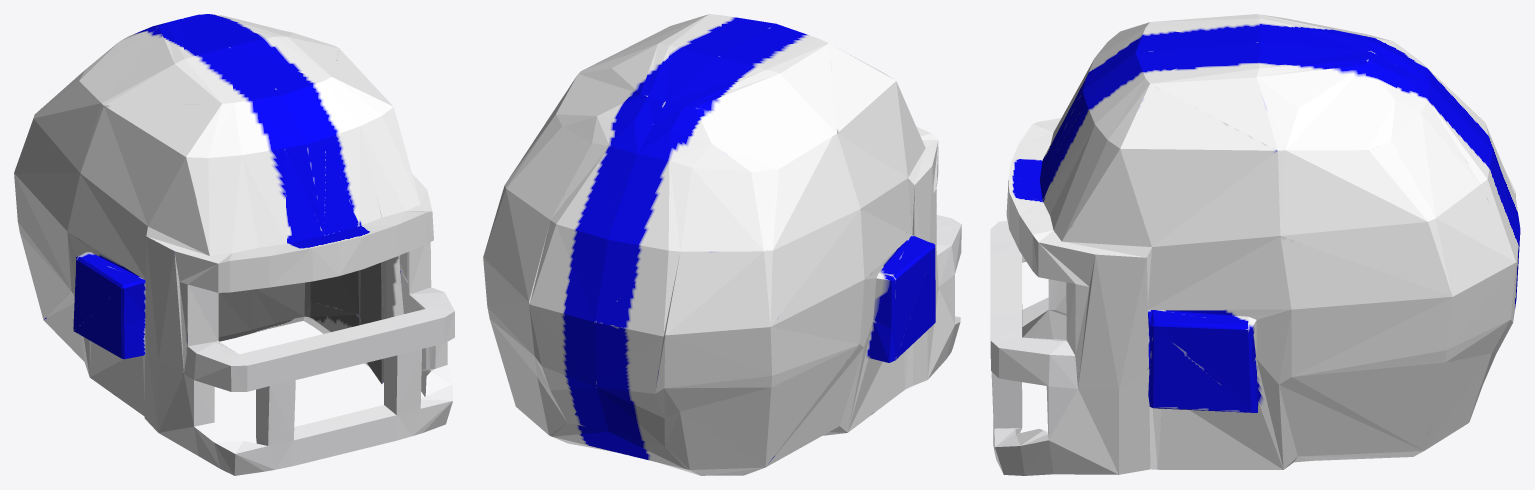
The model's file is helmet_regions.glb.
3 renders of one model, left to right at view 1: azimuth 30°, elevation 25°; view 2: azimuth 150°, elevation 25°; view 3: azimuth 270°, elevation 25°, orthographic. The views are drawn at different scales.
Visible parts, largest first — view 1: helmet; view 2: helmet; view 3: helmet.
Part boxes in pixels (left/top/right/bottom): helmet: left=14, top=14, right=454, bottom=475; helmet: left=483, top=14, right=961, bottom=475; helmet: left=990, top=14, right=1520, bottom=475.
Size of the model in its own units: 0.7661 by 0.7383 by 0.9517.
Materials: 2 (1 with a texture image).
